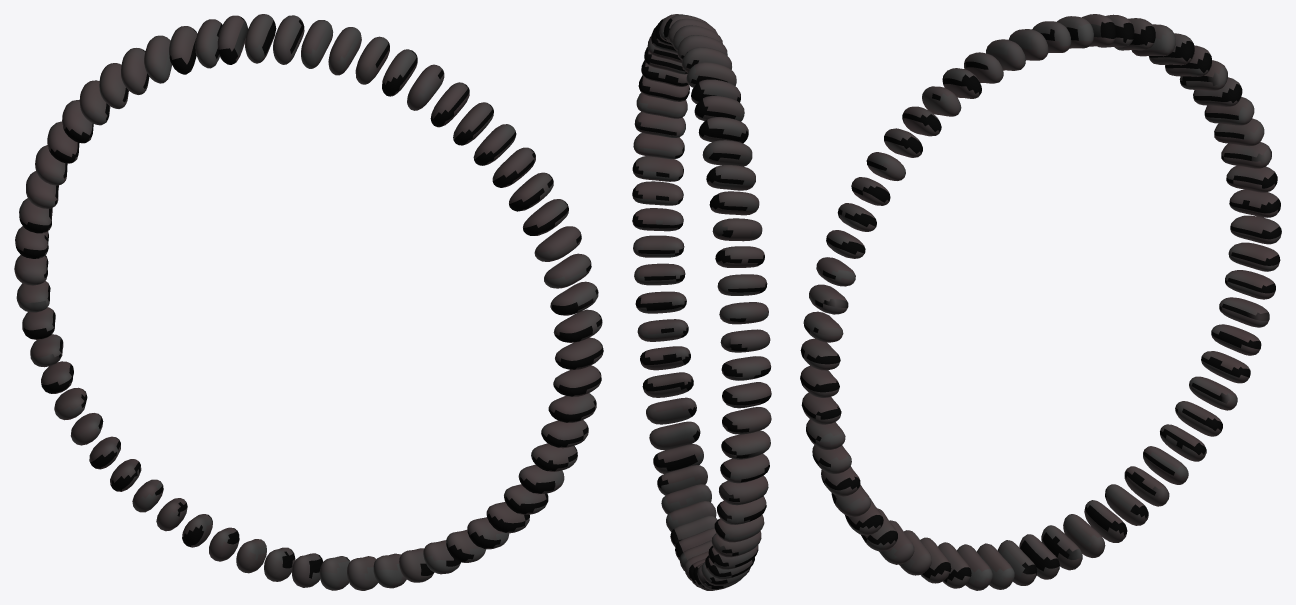
3 renders of one model, left to right at view 1: azimuth 30°, elevation 25°; view 2: azimuth 150°, elevation 25°; view 3: azimuth 270°, elevation 25°, orthographic. The views are drawn at different scales.
Parts seen in each view (by area): view 1: Cube.048; view 2: Cube.048; view 3: Cube.048.
Boxes of the visible parts, bbox=[...] form: Cube.048: bbox=[14, 14, 603, 590]; Cube.048: bbox=[632, 14, 771, 590]; Cube.048: bbox=[800, 14, 1281, 590].
Size of the model in its own units: 1.23 by 1.82 by 1.45.
Materials: 1 (1 with a texture image).
